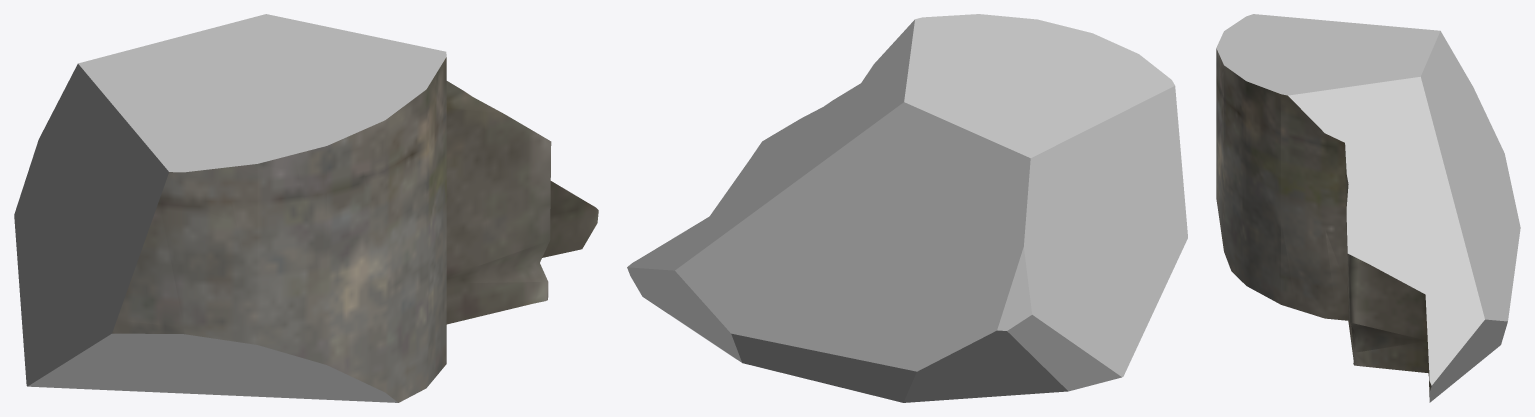
The model's file is ColumnDamage08_20.fbx.
3 renders of one model, left to right at view 1: azimuth 30°, elevation 25°; view 2: azimuth 150°, elevation 25°; view 3: azimuth 270°, elevation 25°, orthographic. The views are drawn at different scales.
Visible parts, largest first — view 1: ColumnDamage08_DM.020; view 2: ColumnDamage08_DM.020; view 3: ColumnDamage08_DM.020.
Boxes of the visible parts, <box> form: ColumnDamage08_DM.020: <box>14,14,598,402</box>; ColumnDamage08_DM.020: <box>627,14,1187,402</box>; ColumnDamage08_DM.020: <box>1216,14,1520,402</box>.
Size of the model in its own units: 185 by 98.64 by 119.
